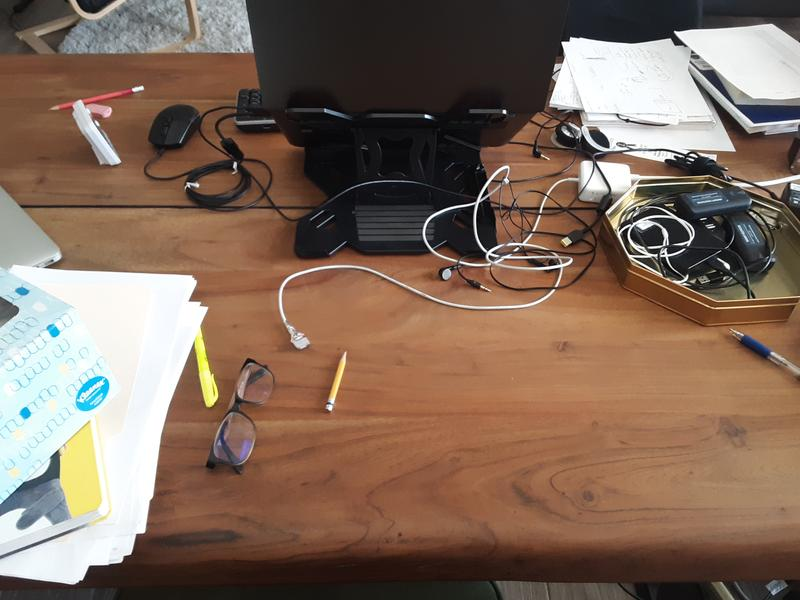glasses: (205, 357, 278, 477)
